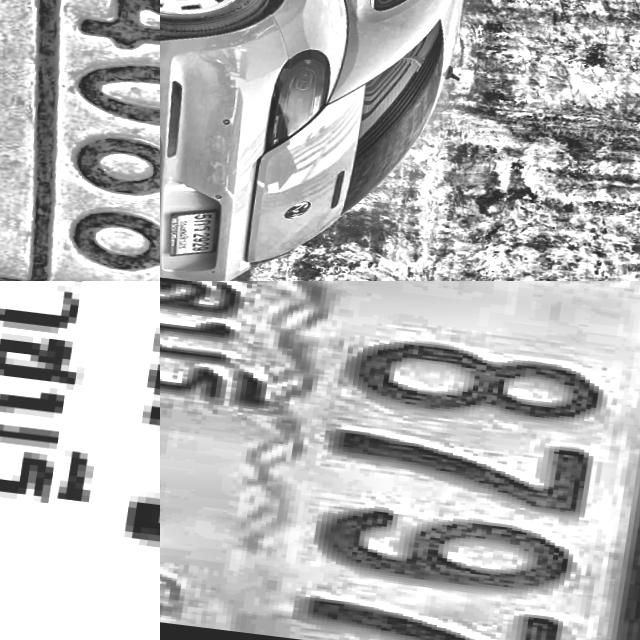license-plate: (160, 281, 640, 640), (0, 281, 160, 640), (0, 0, 160, 281), (164, 203, 225, 263)
